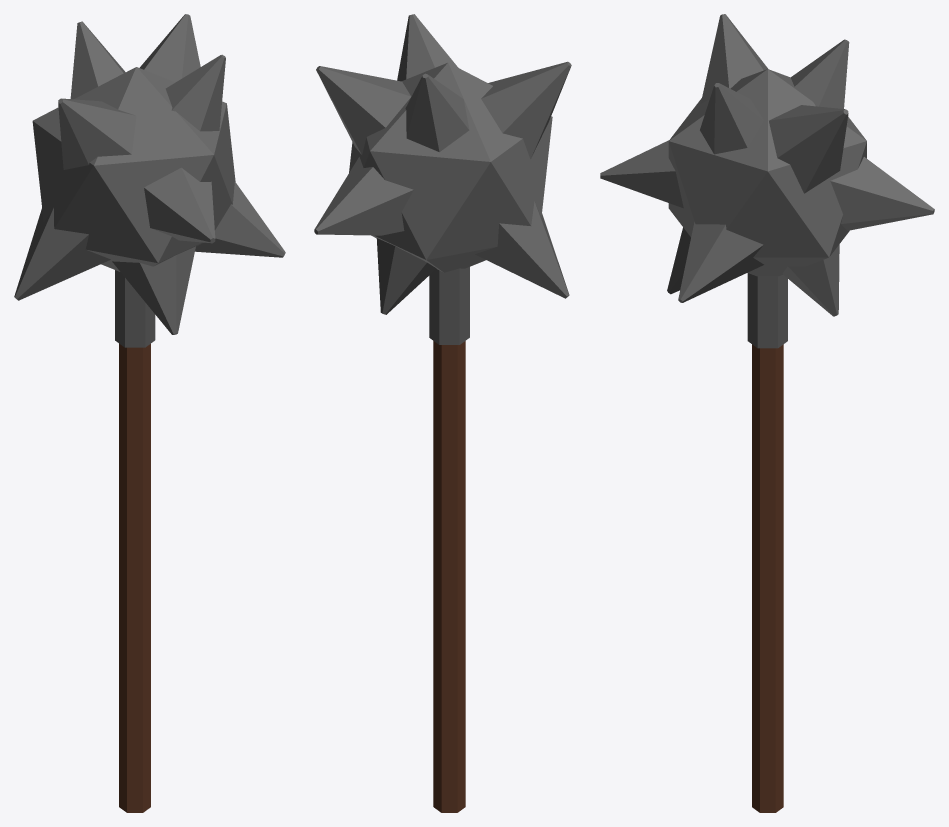
Rendered from Mace2.fbx.
3 views of the same model, side by side, from view 1: azimuth 30°, elevation 25°; view 2: azimuth 150°, elevation 25°; view 3: azimuth 270°, elevation 25° (orthographic).
Visible parts, largest first — view 1: Cylinder.016; view 2: Cylinder.016; view 3: Cylinder.016.
Part boxes in pixels (<box>): Cylinder.016: <box>14,14,285,812</box>; Cylinder.016: <box>314,14,571,812</box>; Cylinder.016: <box>600,14,934,812</box>.
Size of the model in its own units: 0.4564 by 0.5839 by 1.46.
